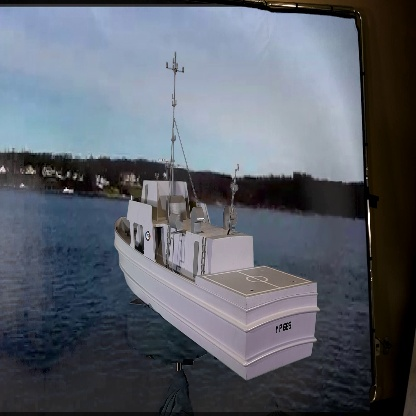YP689: (112, 56, 319, 381)
